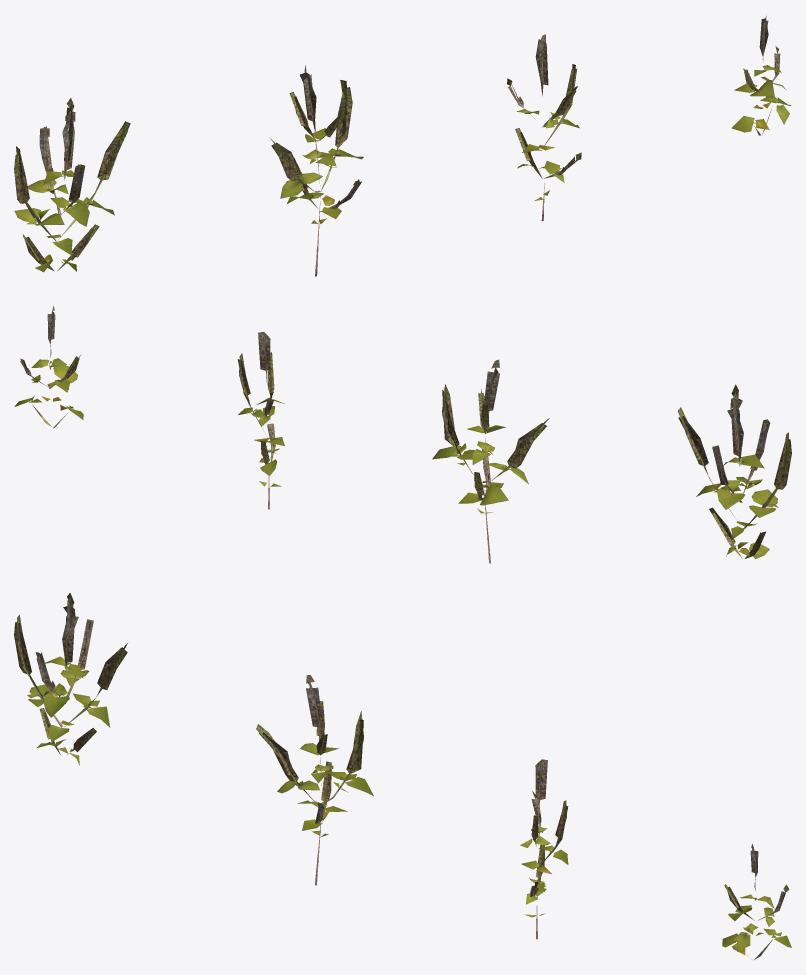
Rendered from shrub_03.lod.glb.
3 renders of one model, top to bottom at view 1: azimuth 30°, elevation 25°; view 2: azimuth 150°, elevation 25°; view 3: azimuth 330°, elevation 25°, orthographic. The views are drawn at different scales.
Parts seen in each view (by area): view 1: shrub_03_a; view 2: shrub_03_a; view 3: shrub_03_a.
Boxes of the visible parts, left/top/right/bottom form: shrub_03_a: left=14, top=16, right=791, bottom=276; shrub_03_a: left=14, top=306, right=791, bottom=563; shrub_03_a: left=14, top=593, right=791, bottom=959.
Bounding box in the file's own units: 1.37 × 0.4018 × 0.1512.
1 material, 1 textured.
